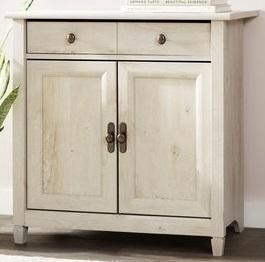cabinet_door: (118, 62, 215, 216), (26, 63, 116, 214), (27, 21, 117, 55), (120, 23, 210, 55)
handle: (156, 32, 168, 47), (66, 31, 77, 46), (106, 131, 116, 146), (118, 131, 126, 146)
